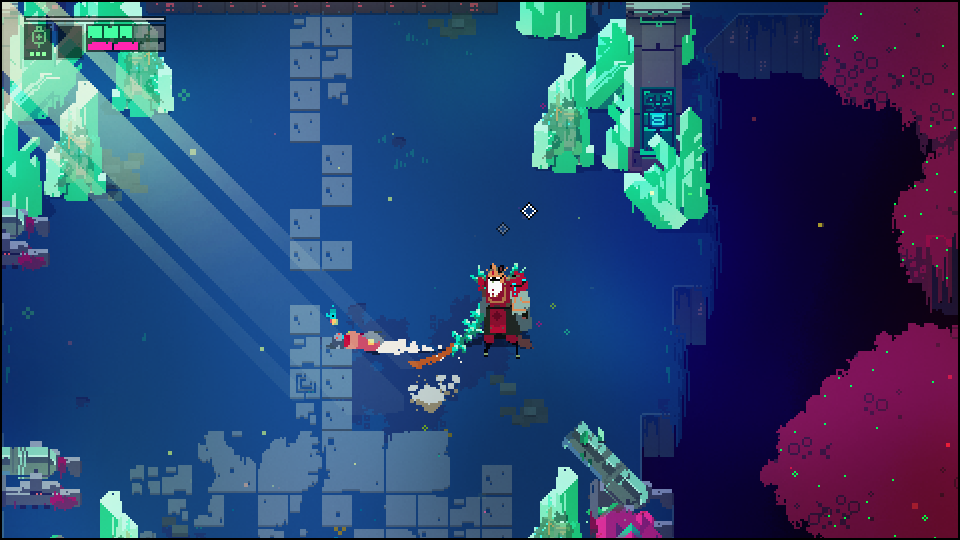hanged_man: (443, 259, 532, 360)
player: (328, 327, 392, 355)
